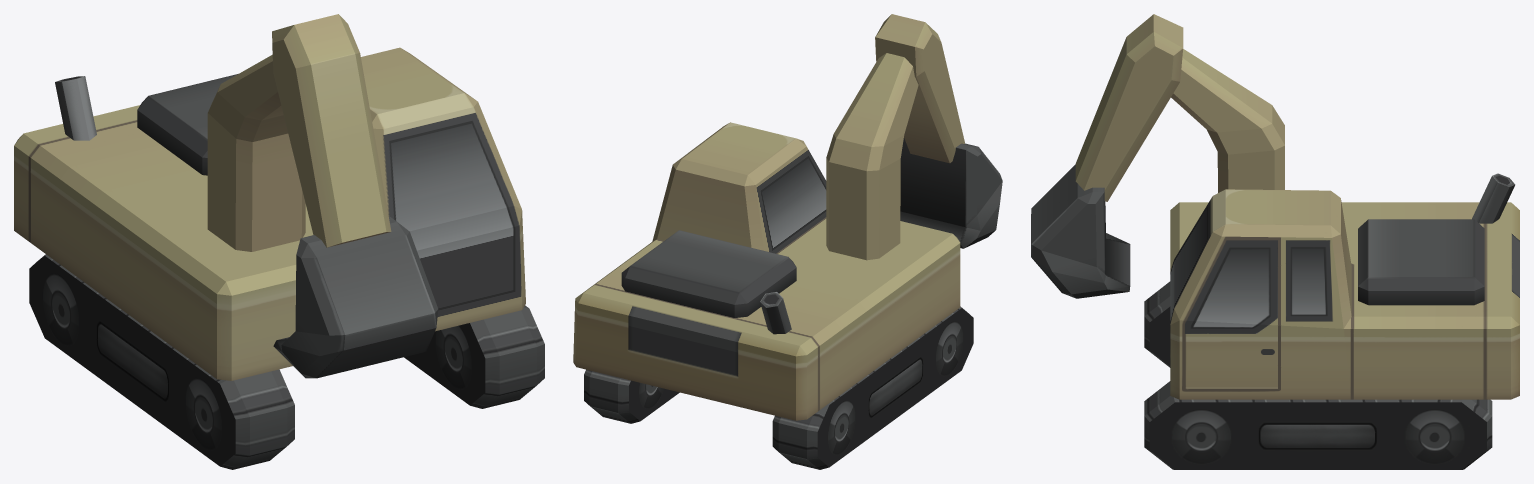
The model's file is Excavator.fbx.
3 views of the same model, side by side, from view 1: azimuth 30°, elevation 25°; view 2: azimuth 150°, elevation 25°; view 3: azimuth 270°, elevation 25° (orthographic). The views are drawn at different scales.
Visible parts, largest first — view 1: ExcaBadan, arm, ExcaBan, ExcaBuck, tambahan; view 2: ExcaBadan, arm, ExcaBan, tambahan, ExcaBuck; view 3: ExcaBadan, ExcaBan, arm, tambahan, ExcaBuck.
Part boxes in pixels (box(x1,y1,x2,y2)): ExcaBadan: box(14, 47, 525, 380); arm: box(207, 14, 391, 251); ExcaBan: box(29, 254, 544, 469); ExcaBuck: box(273, 216, 438, 378); tambahan: box(55, 74, 237, 175); ExcaBadan: box(573, 122, 960, 420); arm: box(826, 14, 964, 260); ExcaBan: box(584, 306, 973, 469); tambahan: box(621, 230, 796, 334); ExcaBuck: box(900, 138, 1002, 248); ExcaBadan: box(1170, 189, 1519, 399); ExcaBan: box(1144, 281, 1492, 469); arm: box(1075, 14, 1284, 201); tambahan: box(1358, 173, 1515, 305); ExcaBuck: box(1031, 164, 1130, 298).
Size of the model in its own units: 97.32 by 132 by 162.
